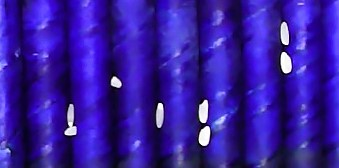broken_grain: (107, 75, 124, 91), (62, 125, 79, 138)
complete_grain: (196, 97, 210, 125), (279, 50, 294, 76), (278, 20, 291, 48), (155, 99, 166, 131), (197, 125, 211, 149), (65, 101, 76, 129)
